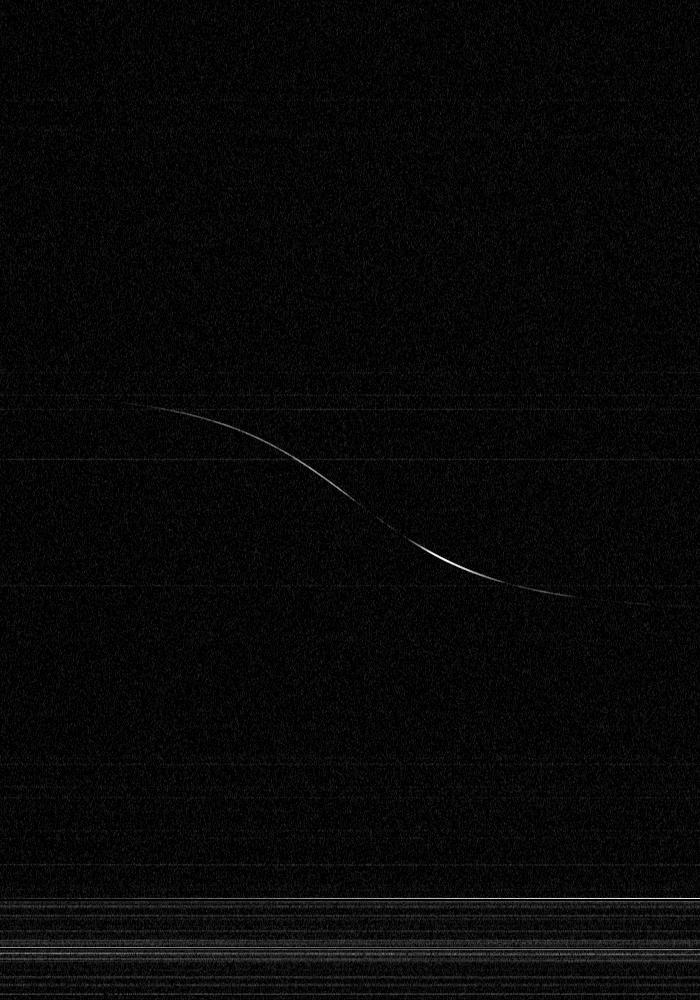signal: (0, 0, 699, 999)
